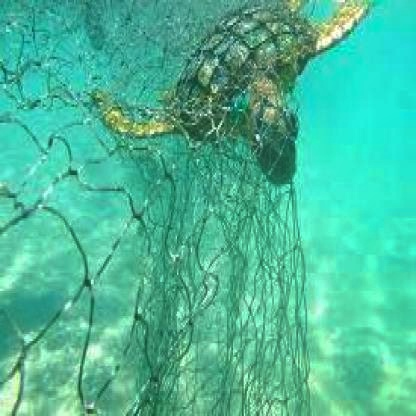net: (1, 4, 304, 416)
